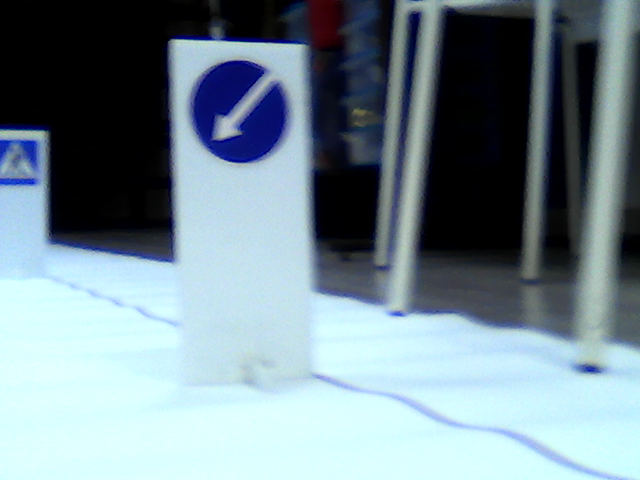pesh: (1, 139, 38, 187)
prep: (189, 52, 291, 174)
